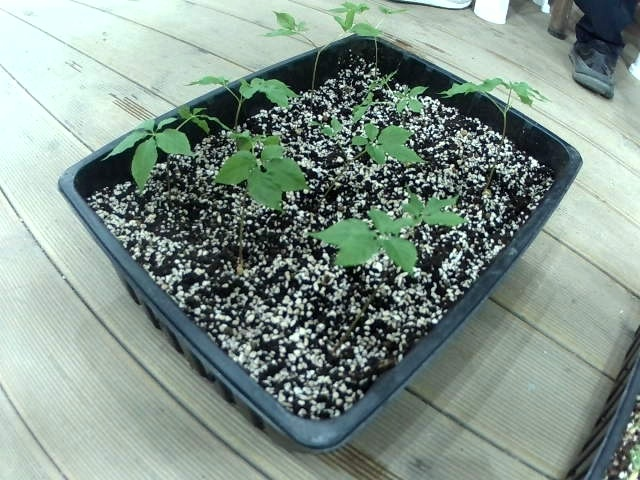수확기: (99, 111, 189, 181), (328, 211, 411, 279), (221, 153, 307, 212), (363, 123, 437, 179), (235, 70, 307, 119), (251, 0, 315, 52), (399, 189, 463, 241), (496, 69, 555, 121), (151, 101, 224, 142), (233, 123, 293, 163), (359, 56, 405, 97), (343, 1, 412, 28), (382, 84, 426, 119), (349, 21, 389, 56), (446, 79, 487, 111), (311, 115, 348, 147), (194, 68, 235, 96), (325, 23, 355, 39)
